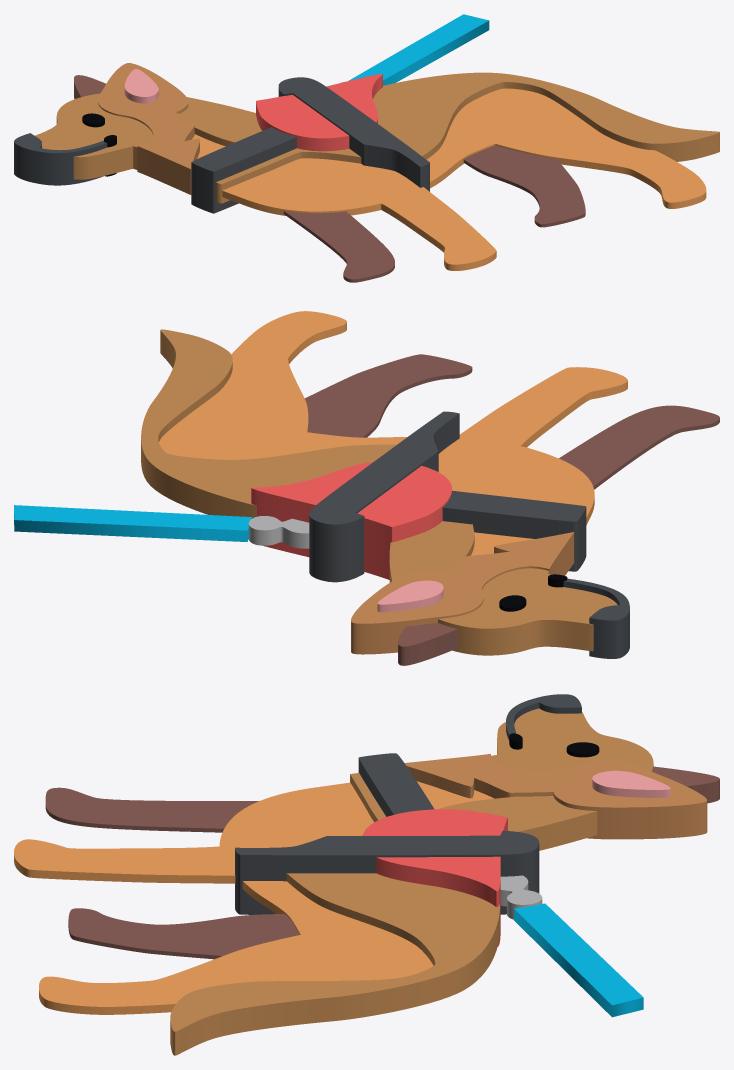
The model's file is emoji_u1f415_200d_1f9ba.glb.
3 views of the same model, one above another, from view 1: azimuth 30°, elevation 25°; view 2: azimuth 150°, elevation 25°; view 3: azimuth 270°, elevation 25° (orthographic). The views are drawn at different scales.
Visible parts, largest first — view 1: emoji_u1f415_200d_1f9ba; view 2: emoji_u1f415_200d_1f9ba; view 3: emoji_u1f415_200d_1f9ba.
Part boxes in pixels (x1,y1,x2,y2): emoji_u1f415_200d_1f9ba: (14, 14, 719, 282); emoji_u1f415_200d_1f9ba: (14, 311, 719, 665); emoji_u1f415_200d_1f9ba: (14, 694, 719, 1055).
Bounding box in the file's own units: 0.0354 × 0.003 × 0.0321.
